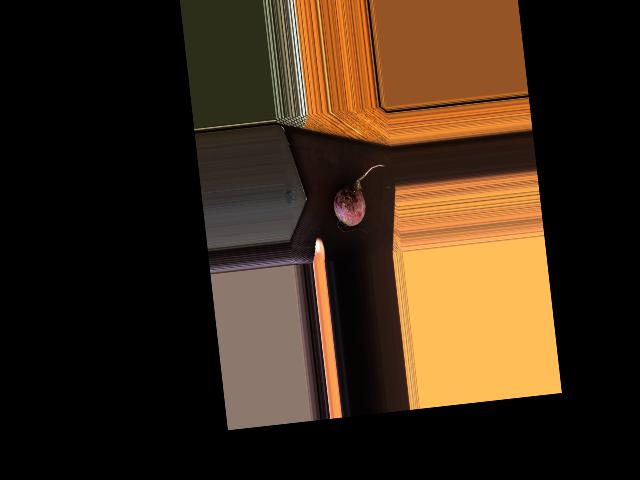beet: (329, 163, 391, 238)
